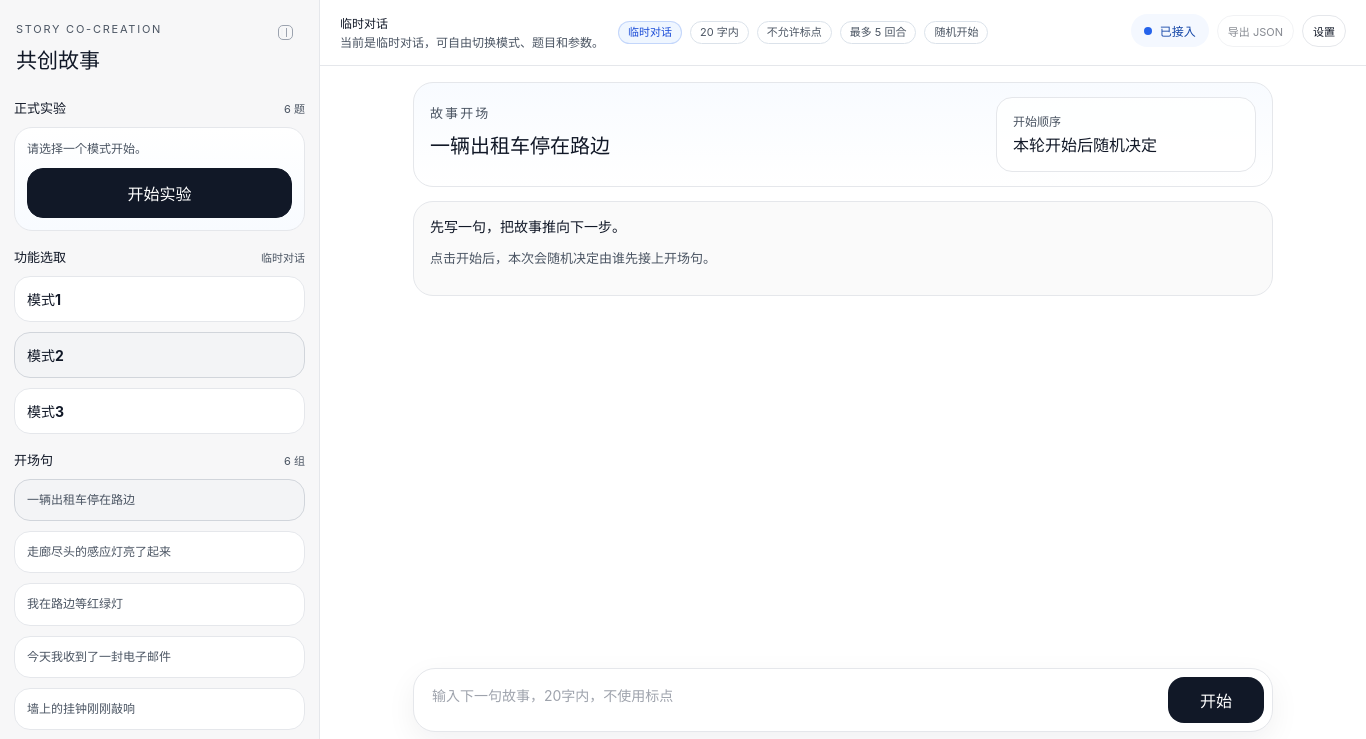
App › uses the main composer button as start action before input is enabled
Expected: the text box with placeholder "输入下一句故事，20字内，不使用标点" is disabled, [422, 677, 1156, 723]
Click the button "开始" at (1216, 700), box [1168, 677, 1264, 723]
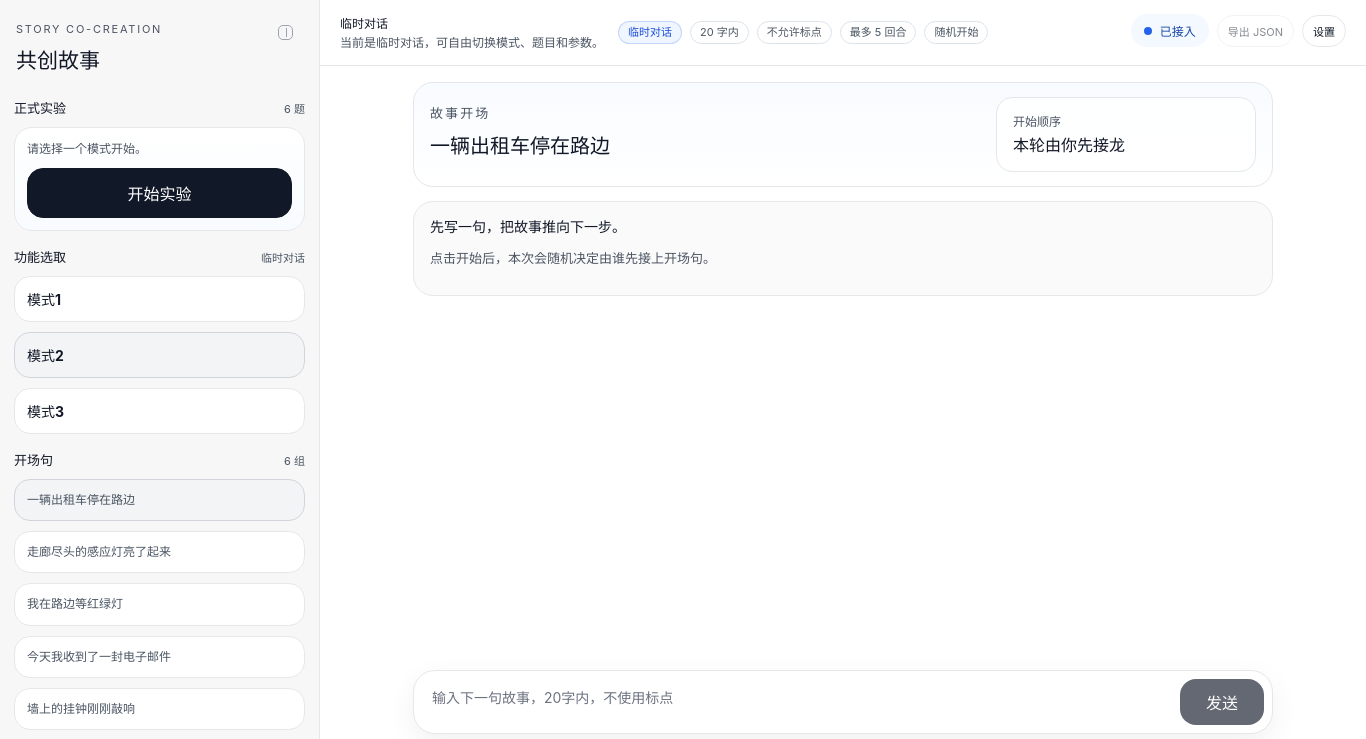
Now the text box with placeholder "输入下一句故事，20字内，不使用标点" is enabled, box [422, 679, 1168, 725]
Now the button "发送" is disabled, box [1180, 679, 1264, 725]
